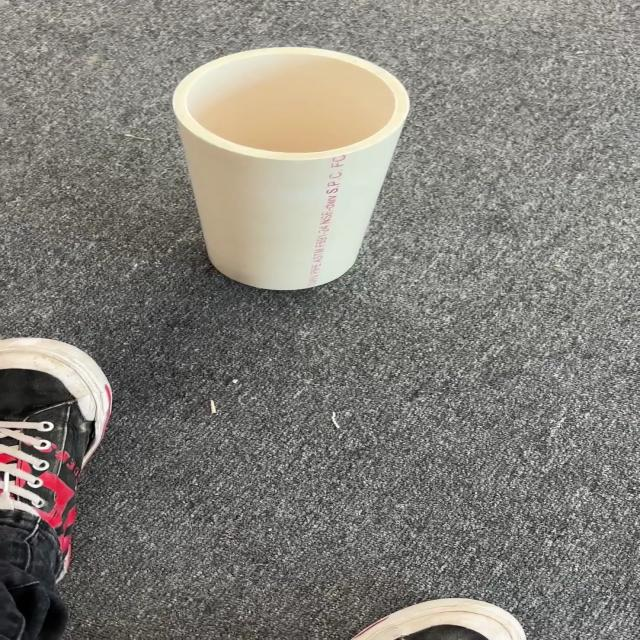Coral: (170, 45, 411, 291)
